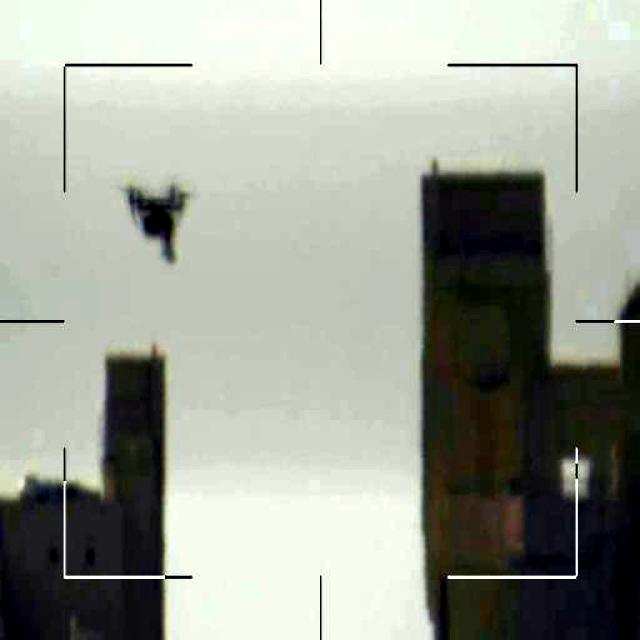bird: (126, 180, 189, 268)
